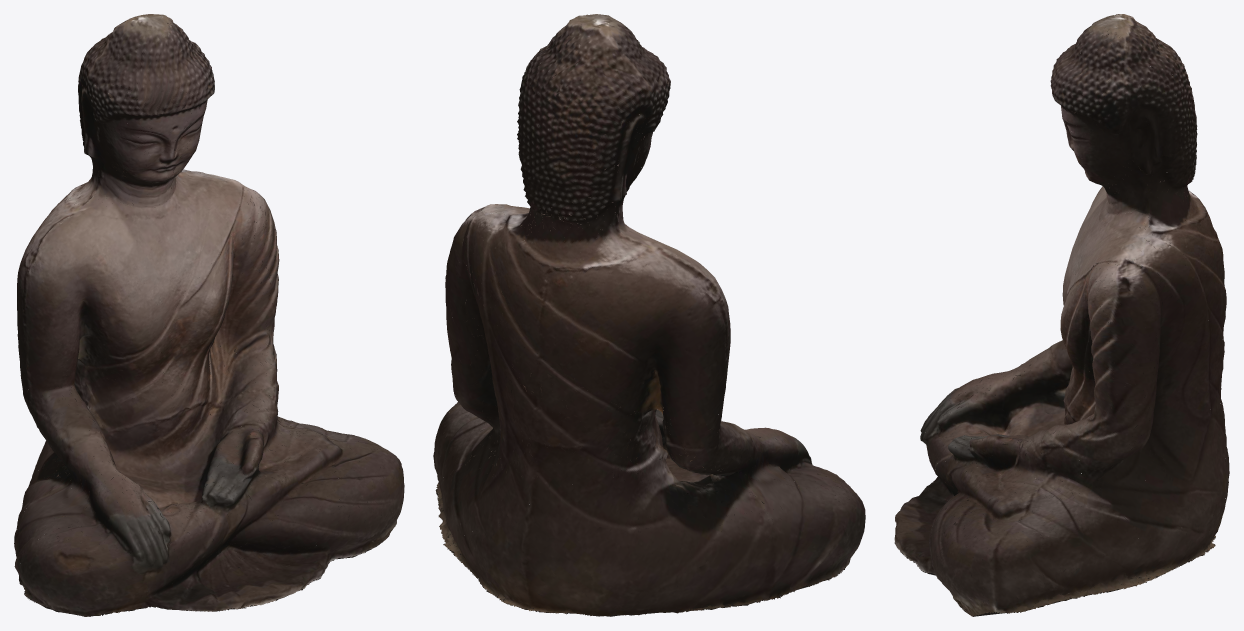
3 renders of one model, left to right at view 1: azimuth 30°, elevation 25°; view 2: azimuth 150°, elevation 25°; view 3: azimuth 270°, elevation 25°, orthographic. The views are drawn at different scales.
Parts seen in each view (by area): view 1: statue-060; view 2: statue-060; view 3: statue-060.
Boxes of the visible parts, x1,y1,x2,y2 form: statue-060: (14,14,404,616); statue-060: (433,14,865,616); statue-060: (894,14,1229,616).
Bounding box in the file's own units: 0.7629 × 1 × 0.5883.
1 material, 1 textured.
